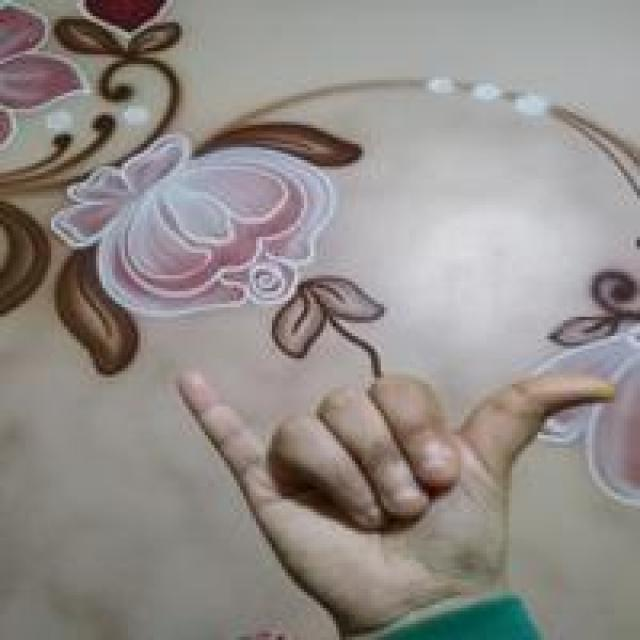Y: (165, 360, 616, 610)
